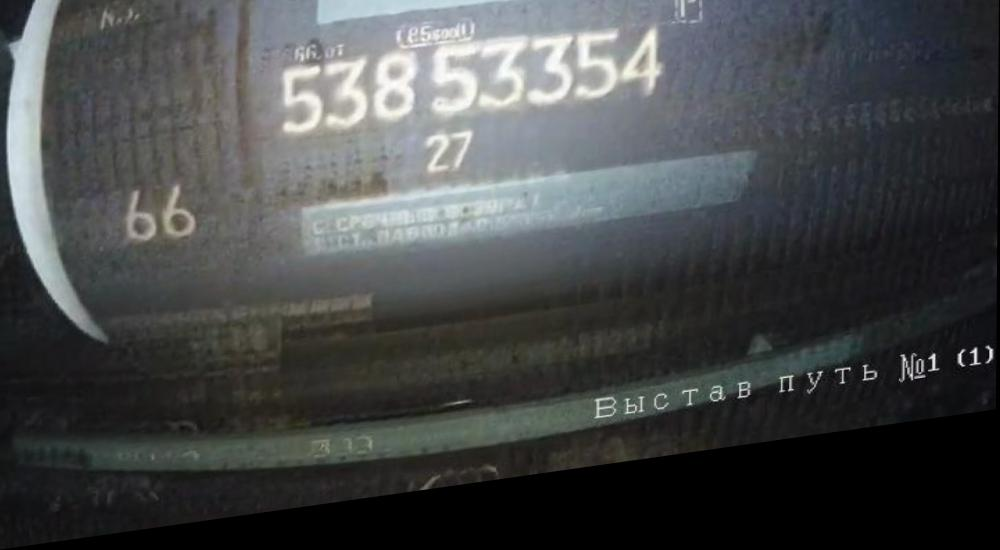Wagon-number: (274, 29, 671, 162)
